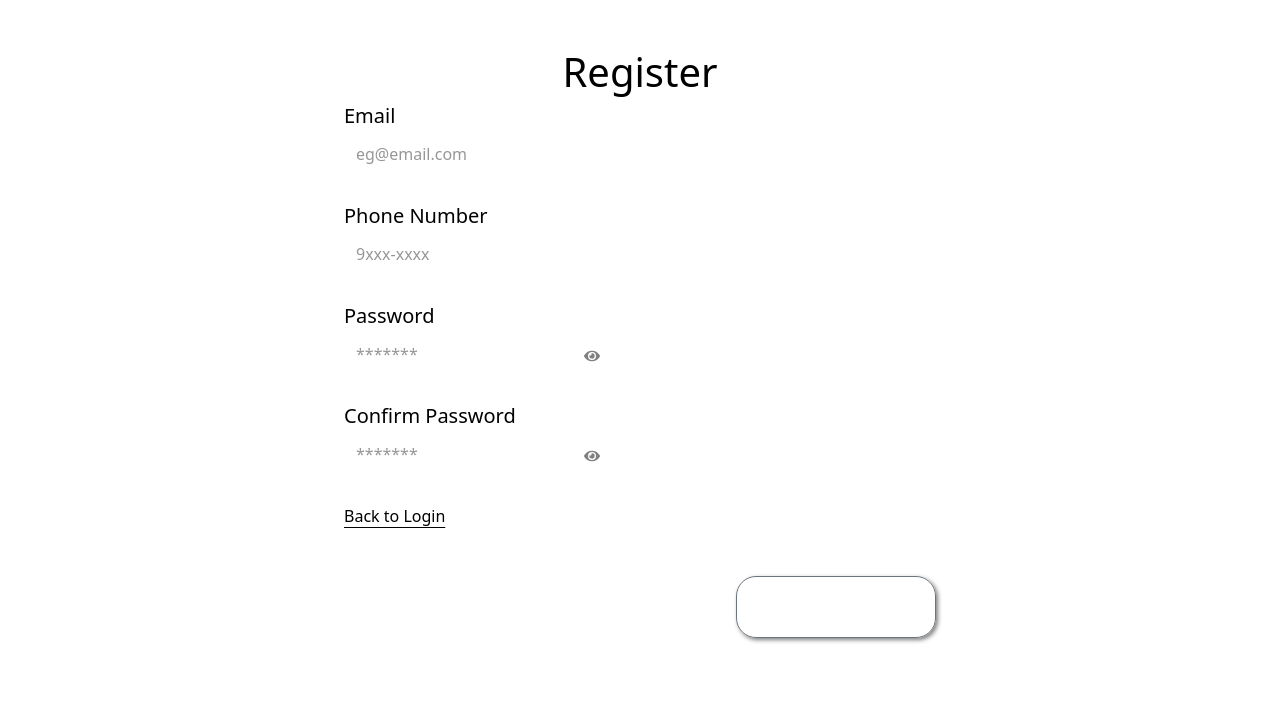
Test: OTP modal shows after valid inputs
Type "exists@example.com" into the field with placeholder "eg@email.com" at (477, 154), box [344,136,610,172]
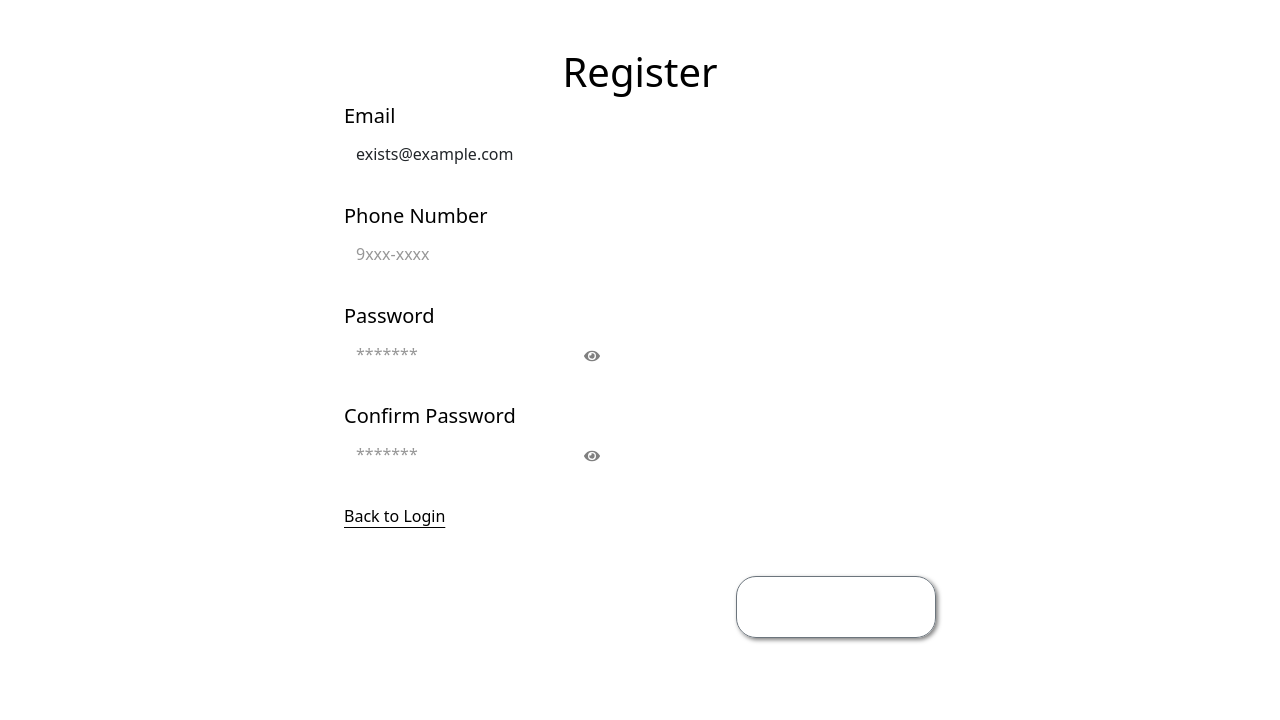
Type "91234567" into the field with placeholder "9xxx-xxxx" at (477, 254), box [344,236,610,272]
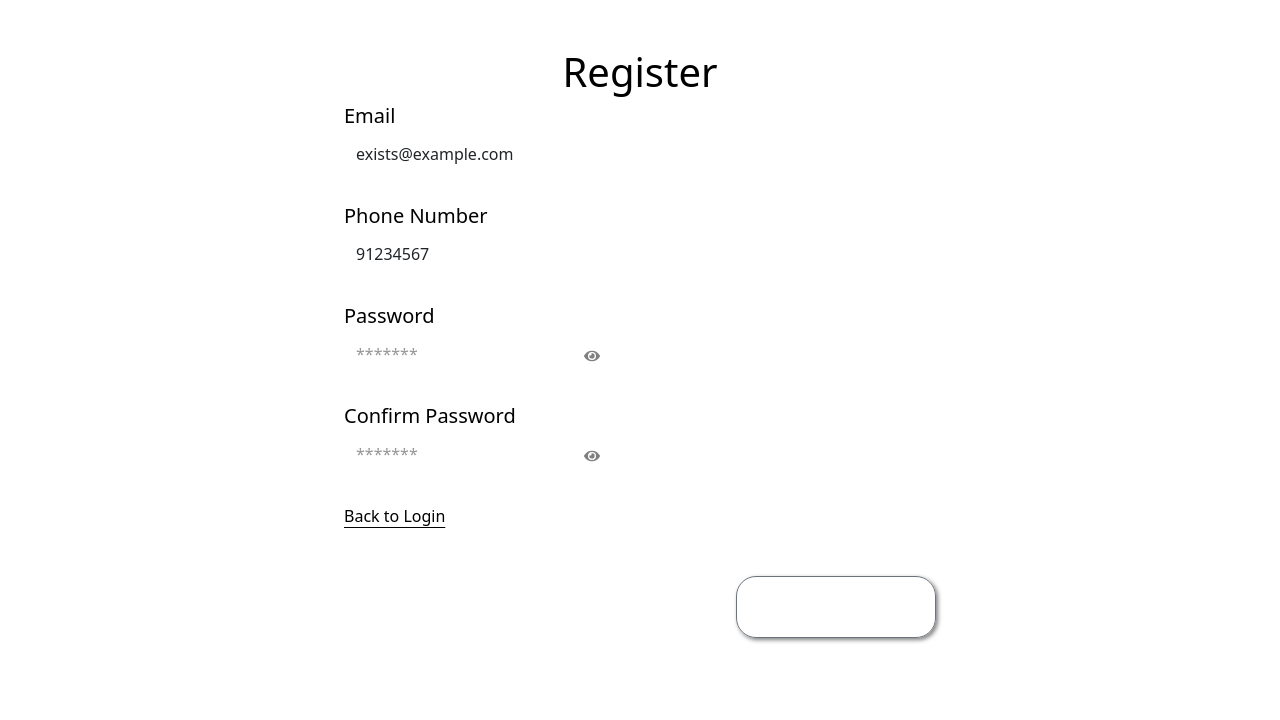
Type "P@ssword123" into the 1st password field with placeholder "*******" at (477, 354), box [344,336,610,372]
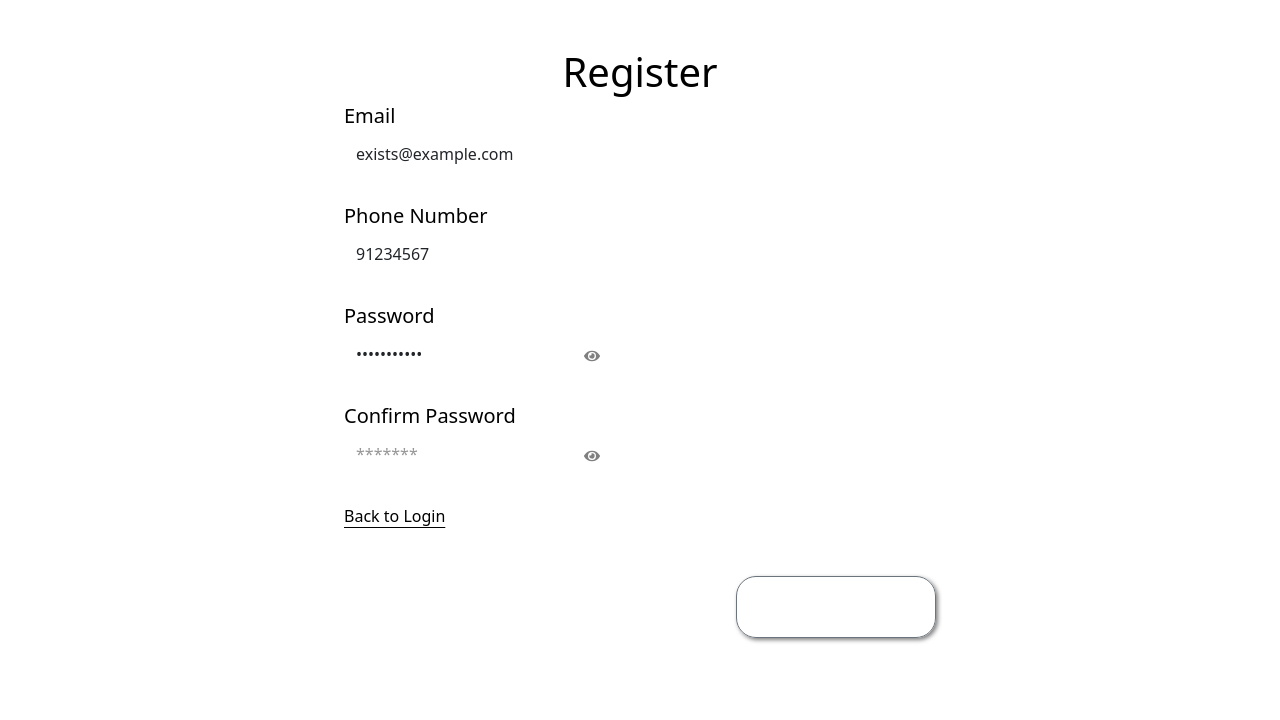
# confirm password
Type "P@ssword123" into the password field with placeholder "*******" at (477, 454), box [344,436,610,472]
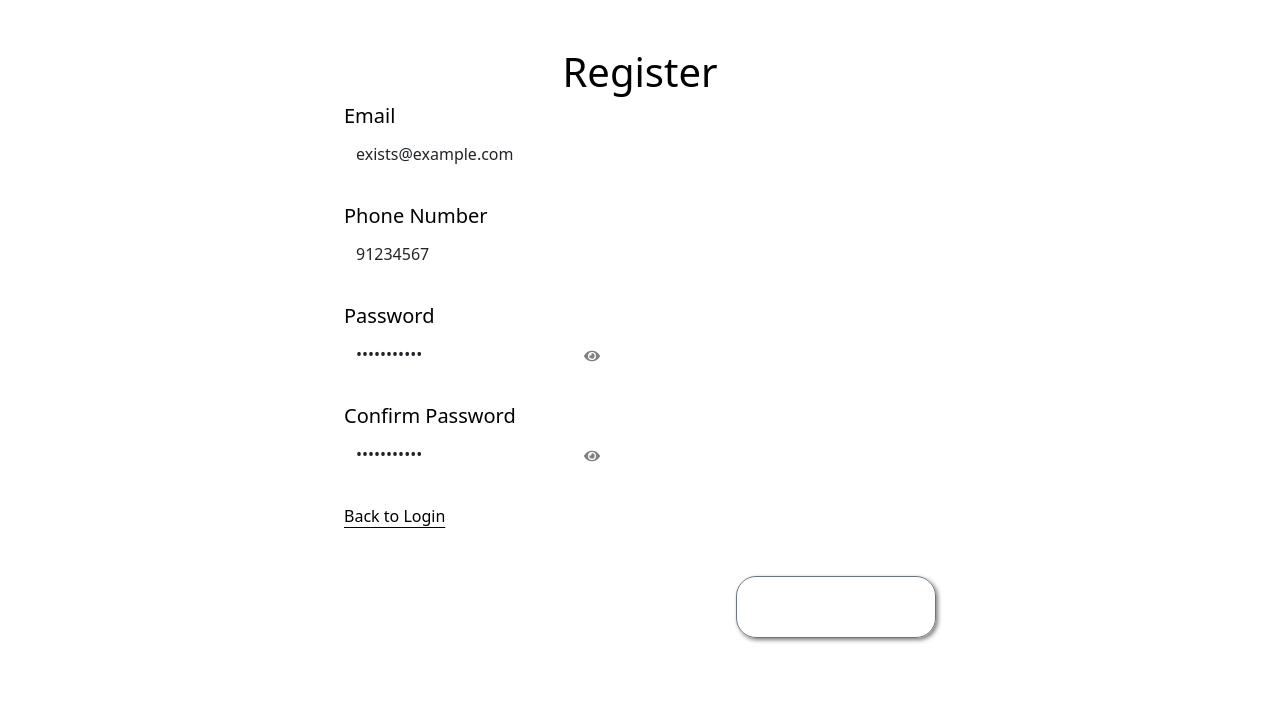
Click the button "Register" at (836, 607), box [736,576,936,638]
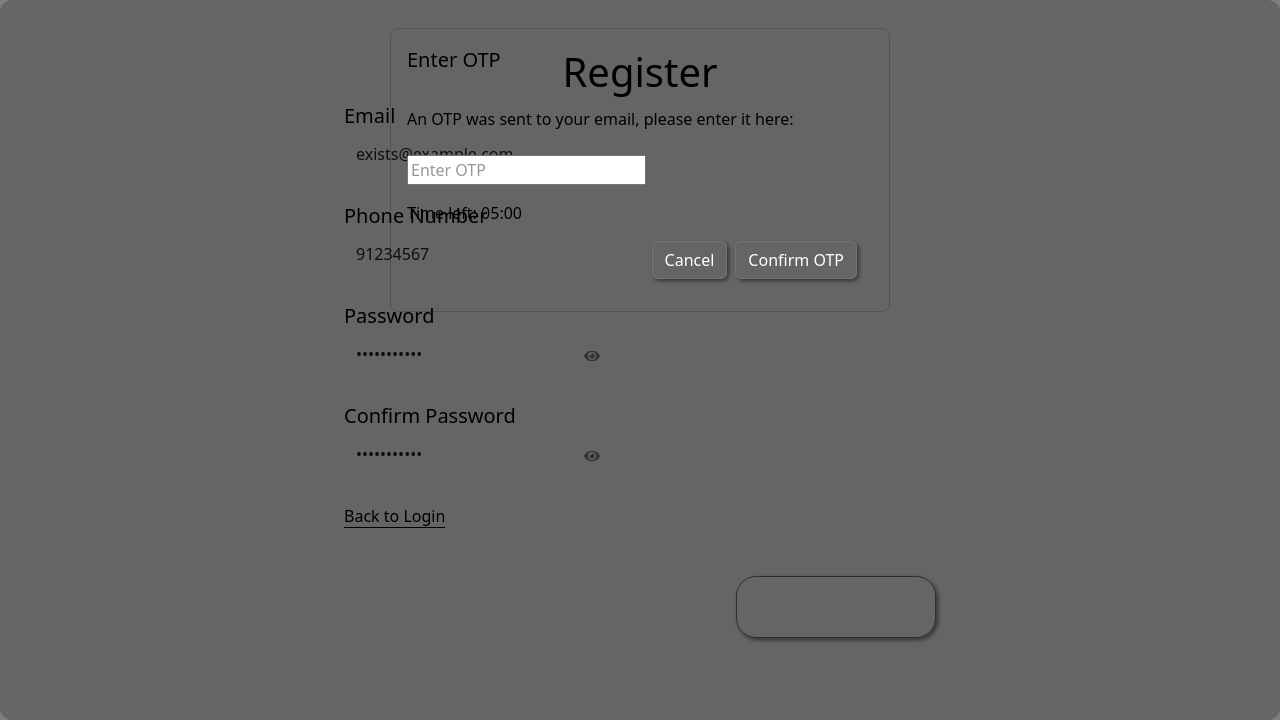
Expected: the heading "Enter OTP" is shown, [407,45,501,75]
